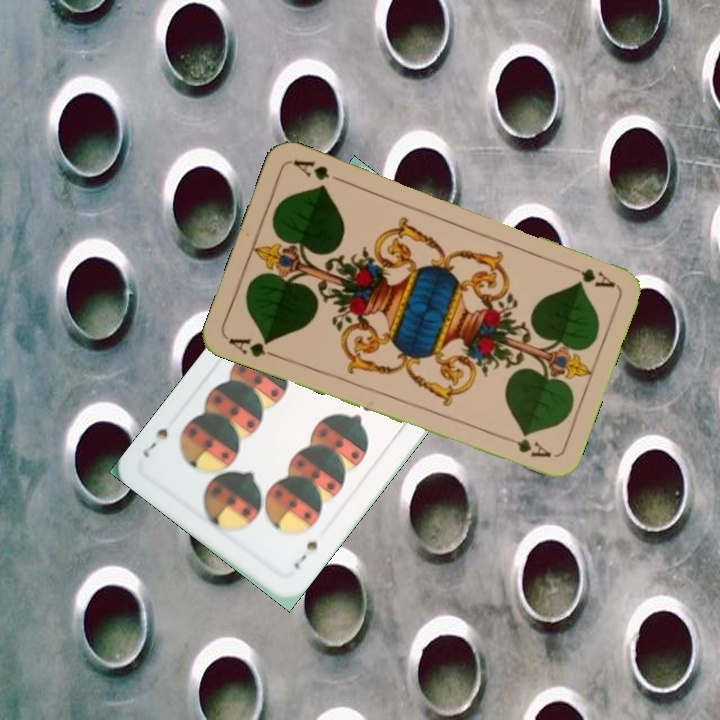GA: (561, 260, 618, 290), (224, 334, 282, 361)
S7: (290, 536, 320, 572)
